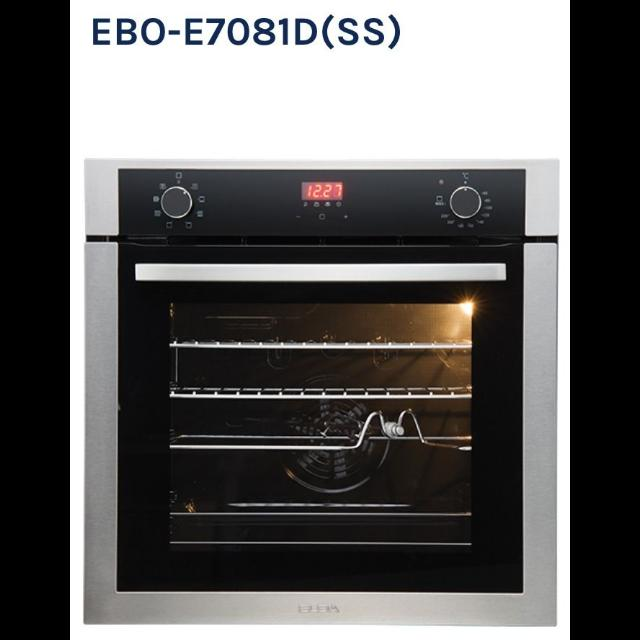Oven: (86, 160, 556, 626)
